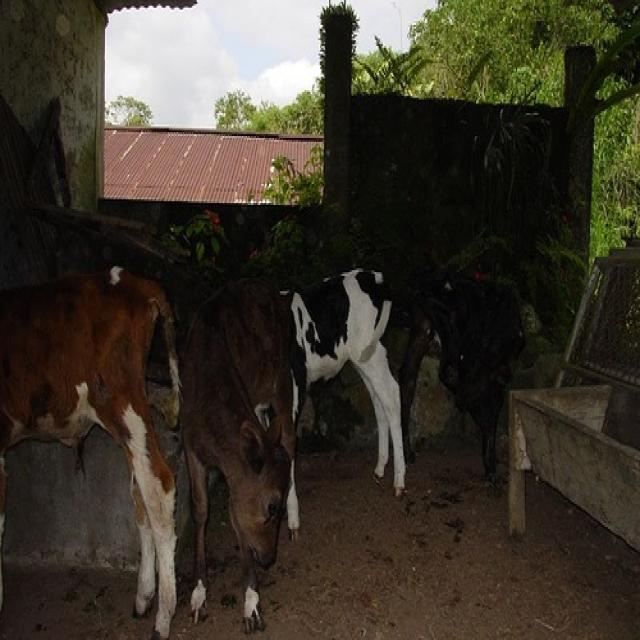cow: (0, 268, 177, 636), (191, 270, 303, 630), (281, 268, 404, 538), (401, 264, 526, 470)
